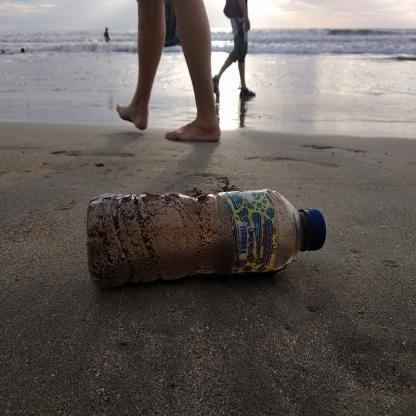Plastic: (83, 187, 328, 292)
